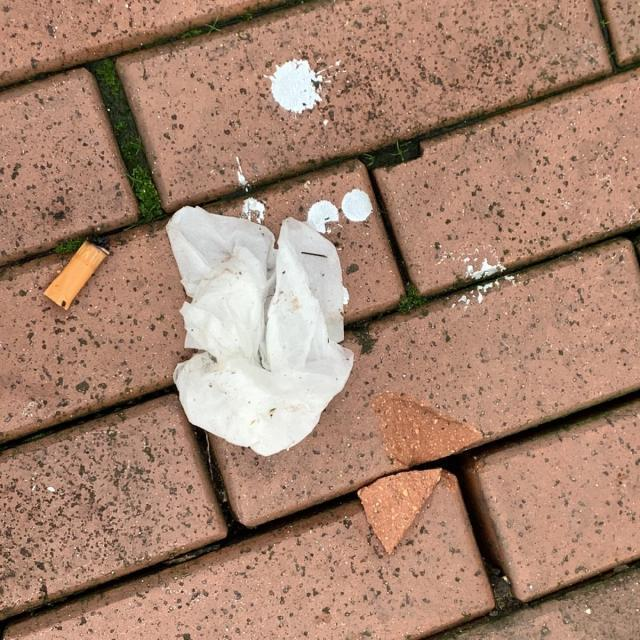Paper: (165, 200, 358, 460)
